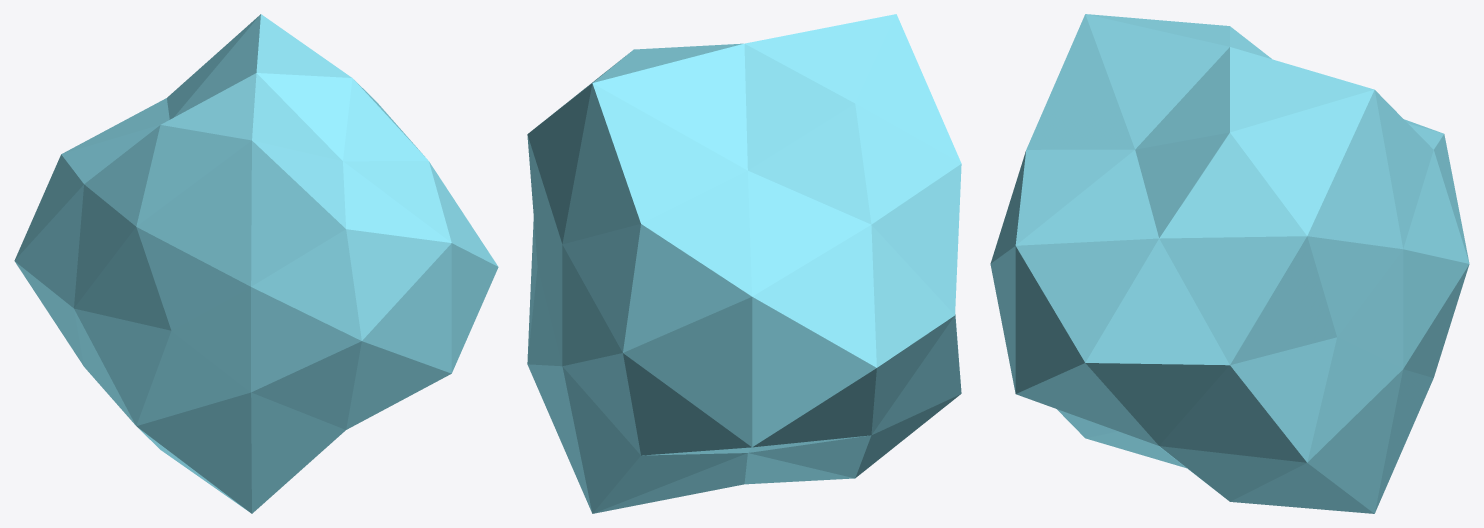
File: icosphere-shard.glb
3 views of the same model, side by side, from view 1: azimuth 30°, elevation 25°; view 2: azimuth 150°, elevation 25°; view 3: azimuth 270°, elevation 25° (orthographic). The views are drawn at different scales.
Parts seen in each view (by area): view 1: icosphere-shard; view 2: icosphere-shard; view 3: icosphere-shard.
Part boxes in pixels (x1,y1,x2,y2): icosphere-shard: (14, 14, 498, 513); icosphere-shard: (527, 14, 961, 513); icosphere-shard: (990, 14, 1469, 513).
Bounding box in the file's own units: 2 × 2 × 2.
